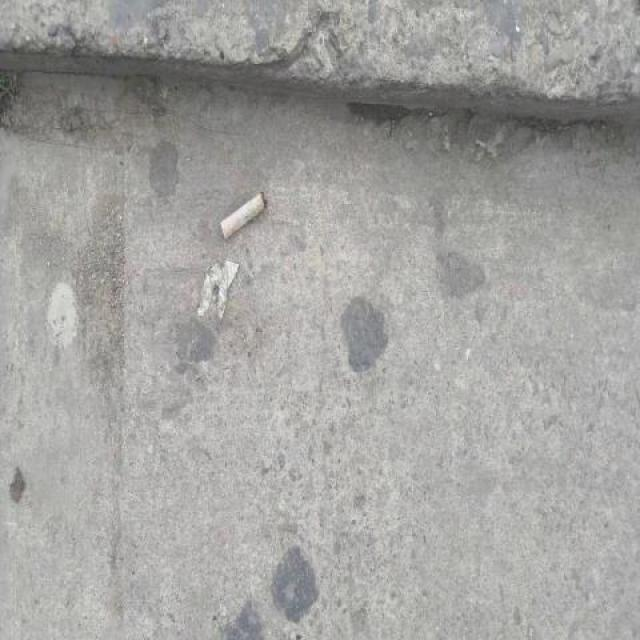non-organic waste: (214, 187, 270, 245)
